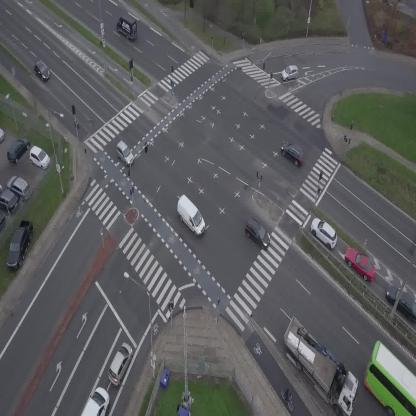bicycle: (280, 388, 295, 412)
car: (340, 242, 382, 285), (103, 340, 137, 388), (305, 213, 343, 251), (240, 216, 276, 250), (276, 136, 309, 168), (81, 386, 110, 416), (110, 140, 138, 168), (31, 60, 54, 83), (279, 64, 300, 82)
lorry: (270, 311, 372, 416), (168, 194, 212, 238), (112, 12, 144, 43)
